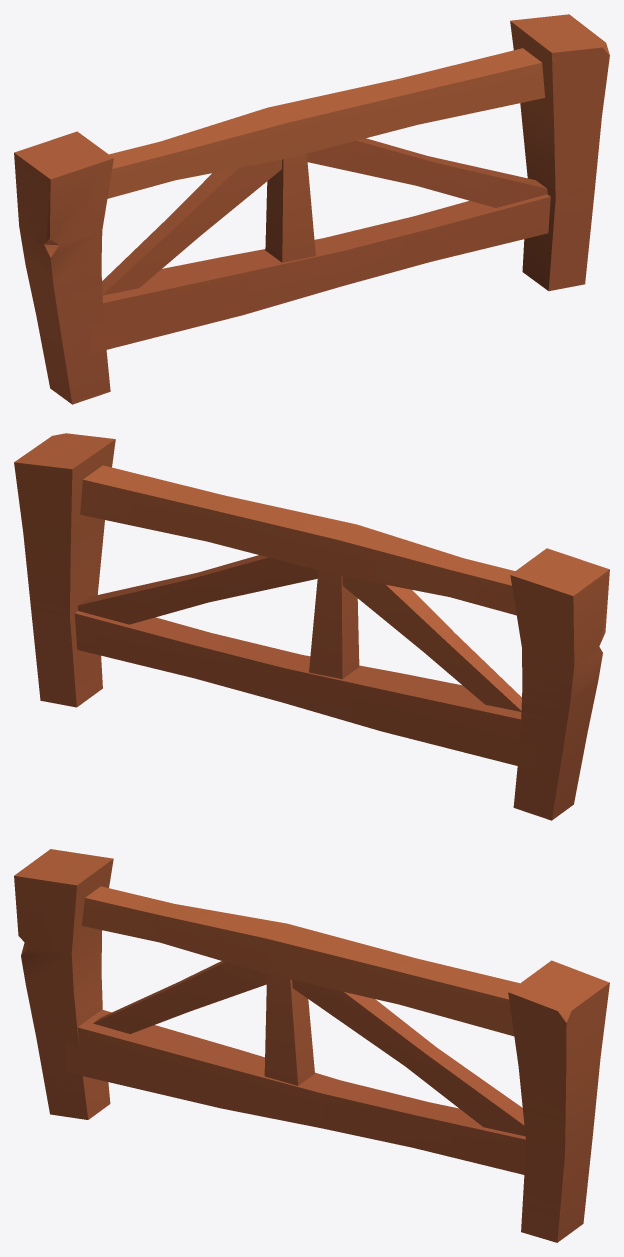
Rendered from SM_Fence_1.fbx.
The picture shows the model from 3 angles, top to bottom: view 1: azimuth 30°, elevation 25°; view 2: azimuth 150°, elevation 25°; view 3: azimuth 330°, elevation 25°; orthographic projection.
Visible parts, largest first — view 1: SM_Fence_2; view 2: SM_Fence_2; view 3: SM_Fence_2.
Part boxes in pixels (x1,y1,x2,y2): SM_Fence_2: (14, 14, 609, 404); SM_Fence_2: (14, 433, 609, 820); SM_Fence_2: (14, 849, 609, 1242).
Size of the model in its own units: 278 by 118 by 37.08.
